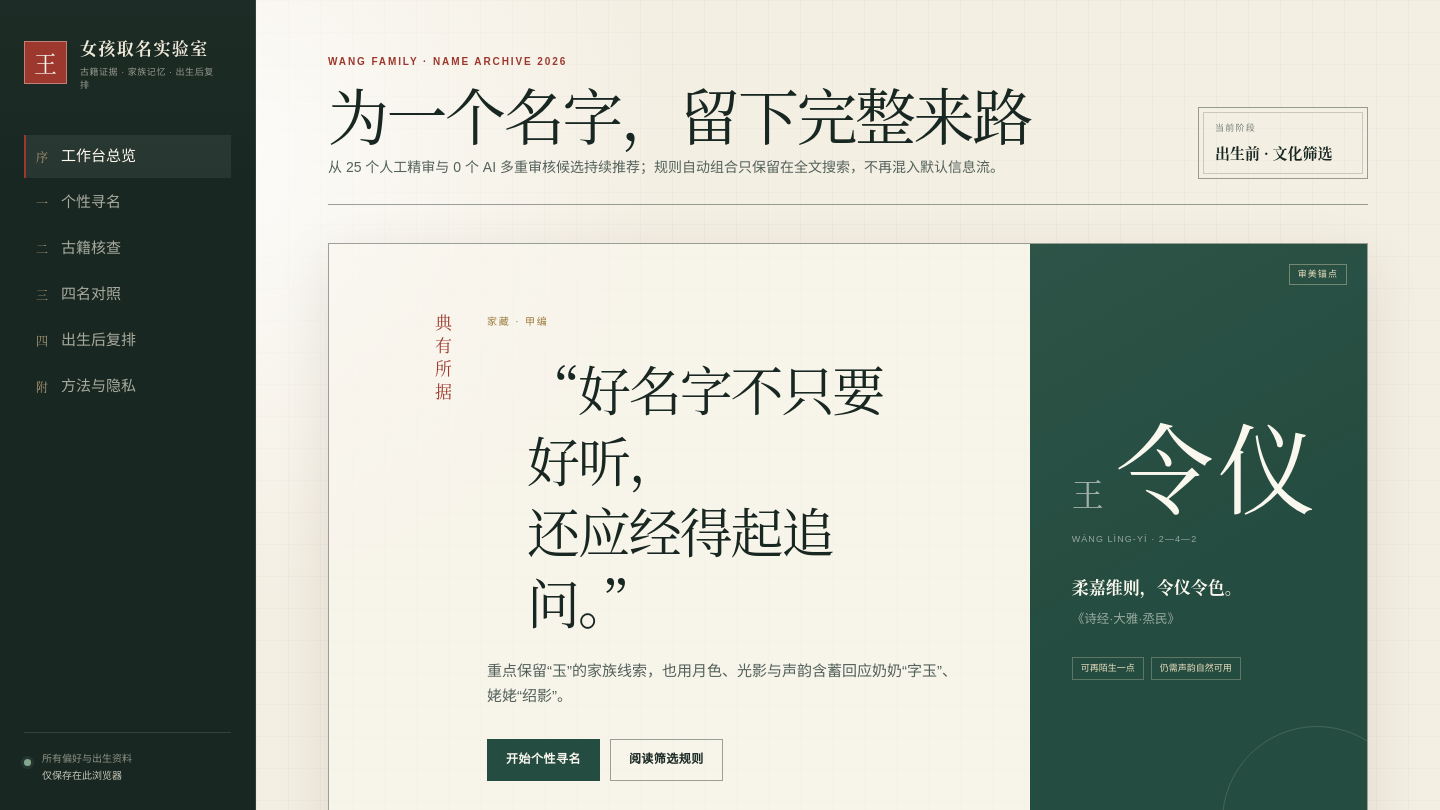
取名实验室应用 › 可以从总览直接进入单名字连续推荐，不再强制八组校准
The image size is (1440, 810).
Click the button "开始个性寻名".
click(543, 760)  # box [487,738,600,780]
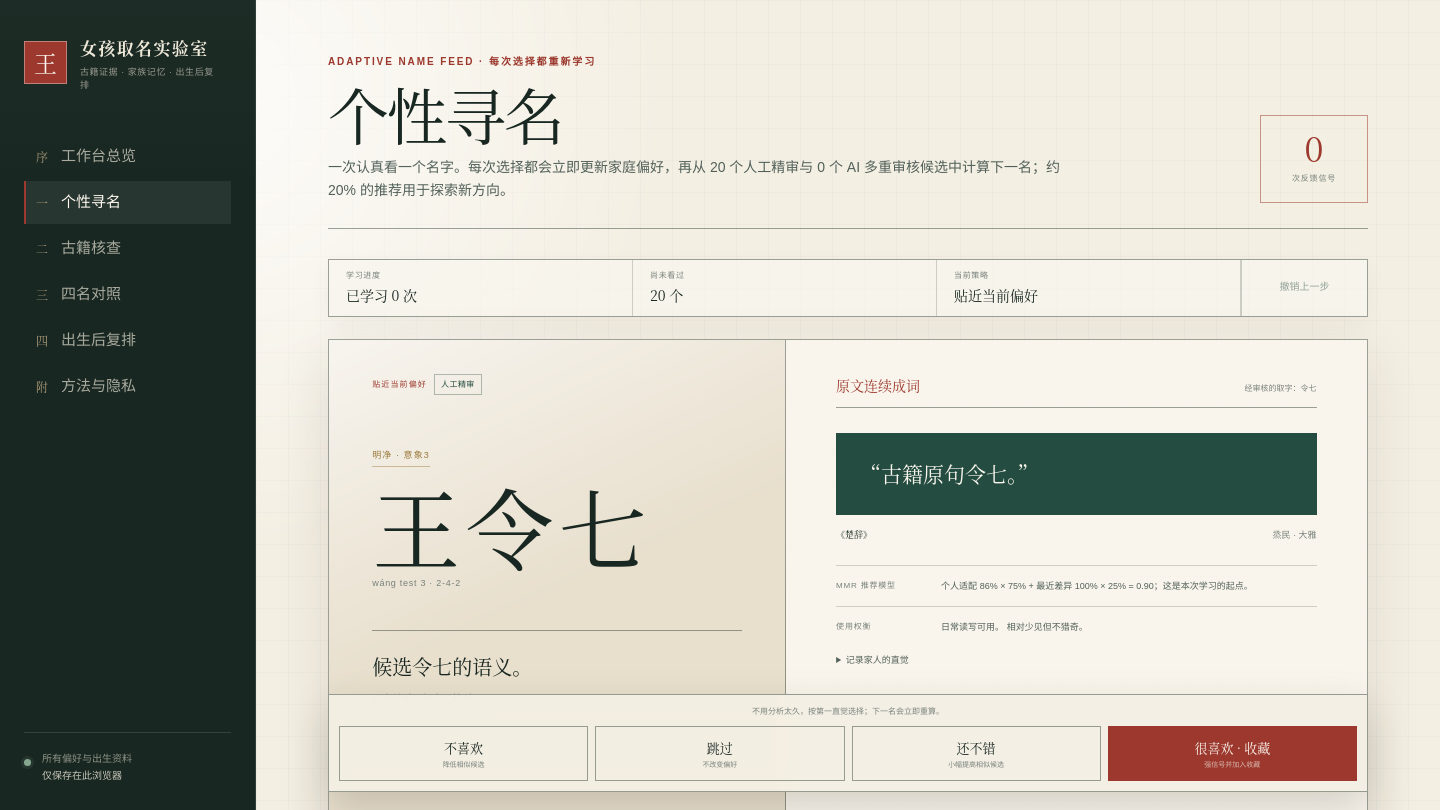
Expected: the heading "个性寻名" is shown, [328,70,562,156]
Expected: the button "很喜欢 · 收藏 强信号并加入收藏" is shown, [1108,726,1357,781]
Expected: the button "还不错 小幅提高相似候选" is shown, [852,726,1101,781]
